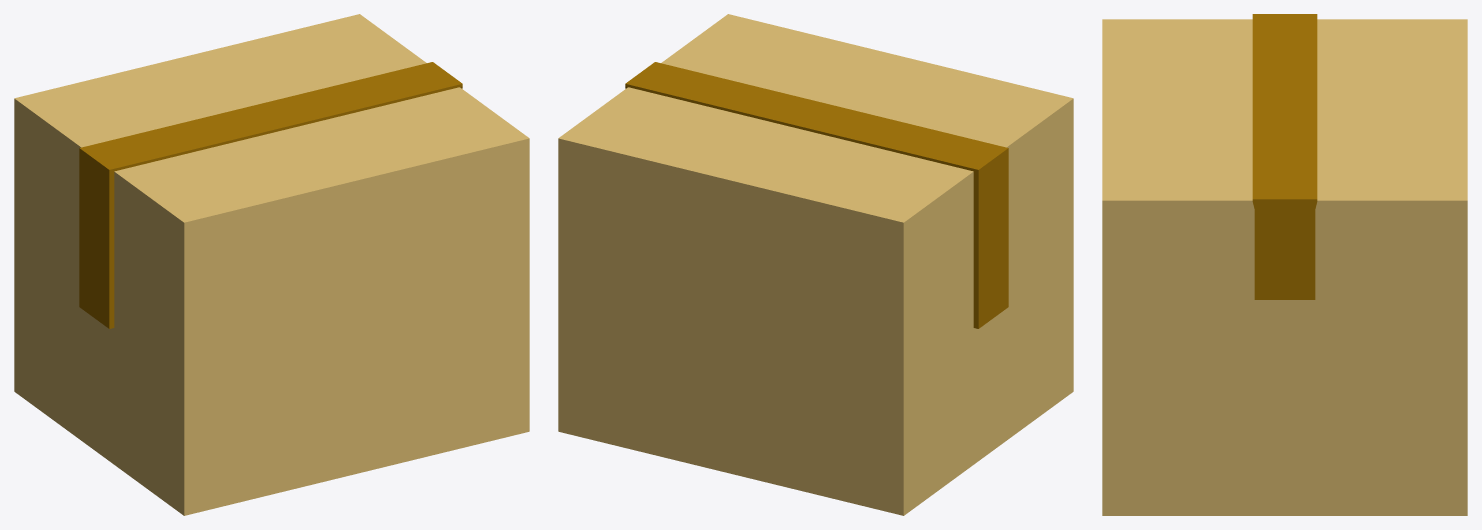
File: CardboardBox.fbx
3 renders of one model, left to right at view 1: azimuth 30°, elevation 25°; view 2: azimuth 150°, elevation 25°; view 3: azimuth 270°, elevation 25°, orthographic. The views are drawn at different scales.
Visible parts, largest first — view 1: pCube1; view 2: pCube1; view 3: pCube1.
Boxes of the visible parts, x1=… form: pCube1: x1=14, y1=14, x2=529, y2=515; pCube1: x1=558, y1=14, x2=1073, y2=515; pCube1: x1=1102, y1=14, x2=1467, y2=515.
Size of the model in its own units: 1.69 by 1.35 by 1.41.
